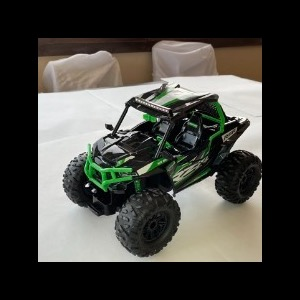polaris: (62, 81, 261, 256)
